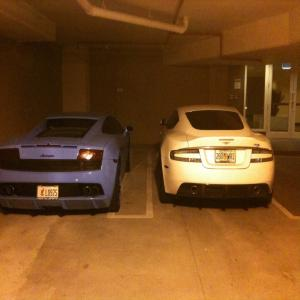Vehicle-registration-plate: (38, 184, 60, 202), (216, 151, 237, 164)
